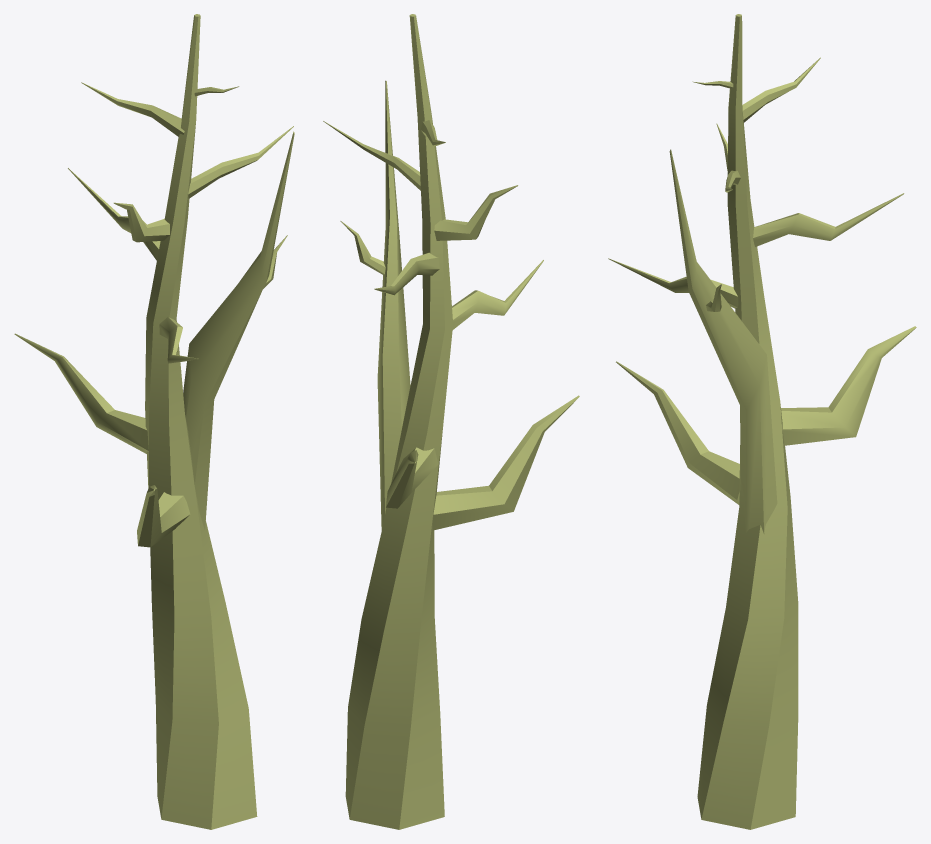
Rendered from deadtree2.glb.
3 views of the same model, side by side, from view 1: azimuth 30°, elevation 25°; view 2: azimuth 150°, elevation 25°; view 3: azimuth 270°, elevation 25° (orthographic).
Parts seen in each view (by area): view 1: Dead_Tree; view 2: Dead_Tree; view 3: Dead_Tree.
Boxes of the visible parts, box(x1,y1,x2,y2) form: Dead_Tree: box(14, 14, 294, 829); Dead_Tree: box(323, 14, 579, 829); Dead_Tree: box(608, 14, 916, 829).
Bounding box in the file's own units: 0.8647 × 3.3 × 1.18.
